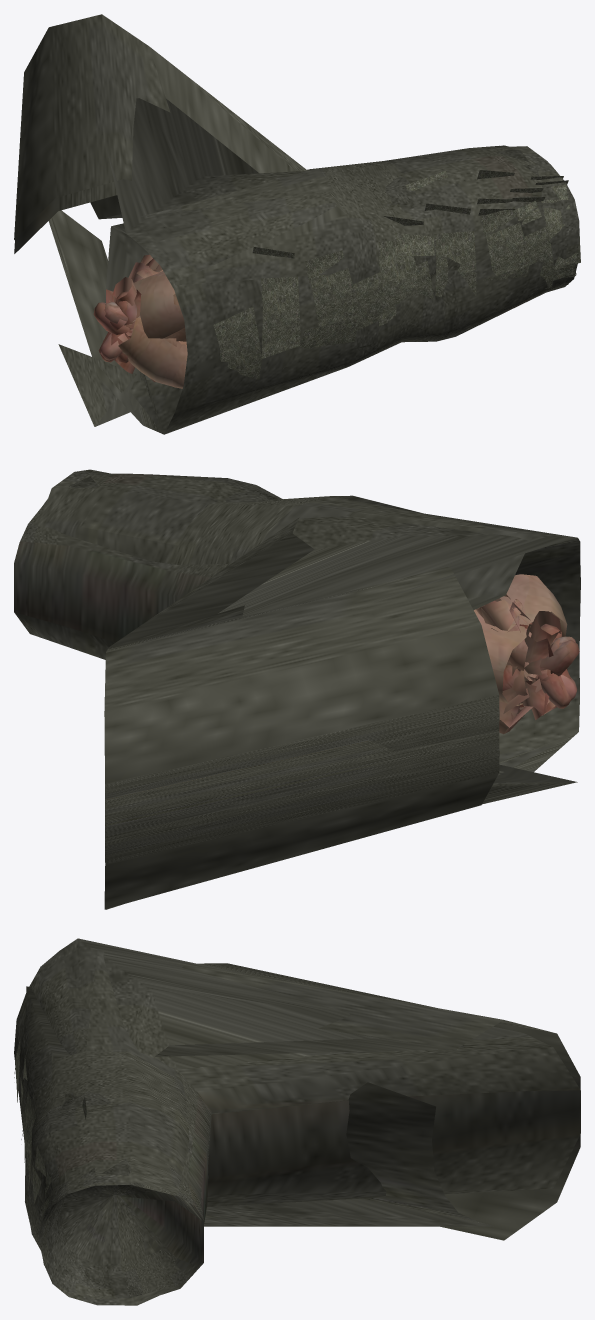
Rendered from viewmodel_hands_german.glb.
3 views of the same model, one above another, from view 1: azimuth 30°, elevation 25°; view 2: azimuth 150°, elevation 25°; view 3: azimuth 270°, elevation 25° (orthographic). The views are drawn at different scales.
Size of the model in its own units: 13.2 by 6.21 by 14.45.
Materials: 2 (2 with a texture image).
